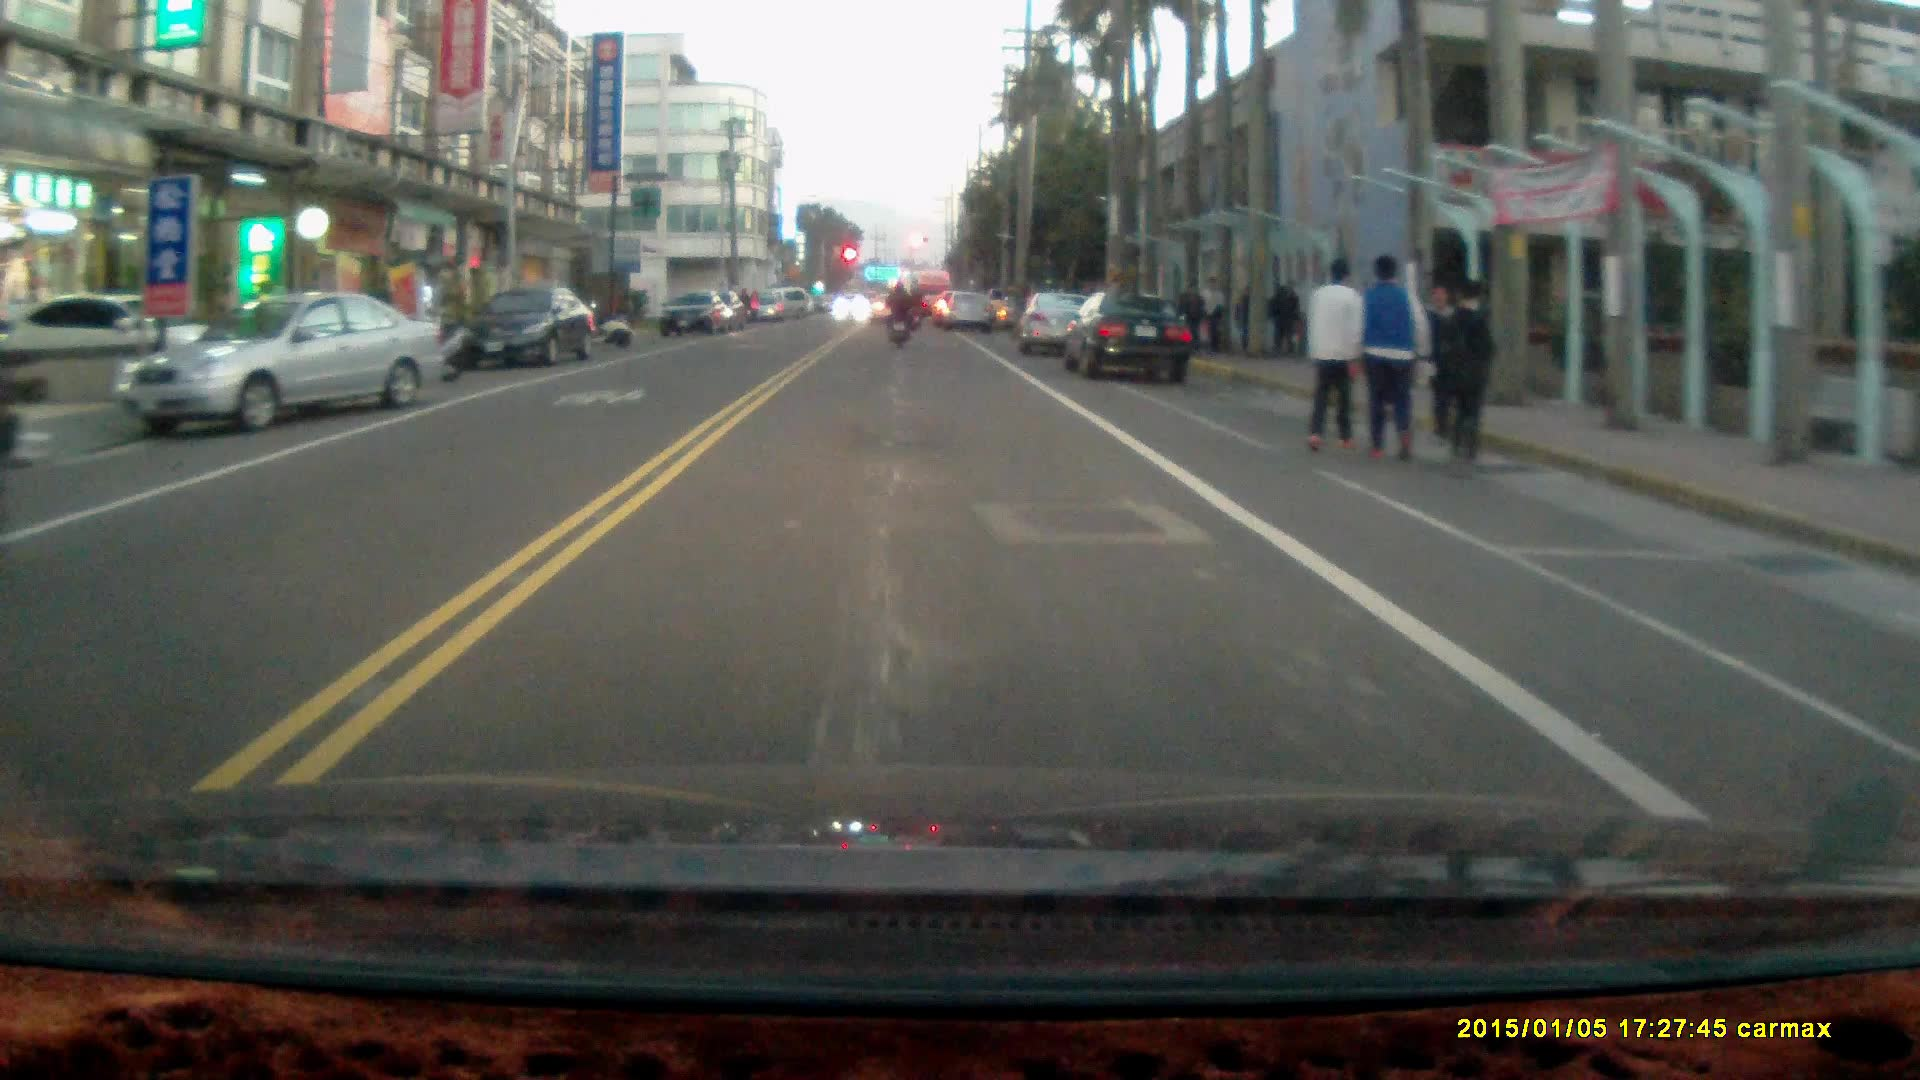pedestrian: (1345, 253, 1431, 470), (1299, 253, 1360, 453), (1436, 278, 1499, 469), (1174, 276, 1210, 358), (1267, 277, 1301, 358), (1197, 275, 1227, 361)
rider: (882, 281, 913, 352)
vehicle: (116, 290, 449, 433), (1064, 291, 1197, 382), (467, 283, 598, 367), (1022, 291, 1086, 354), (662, 290, 737, 340)
